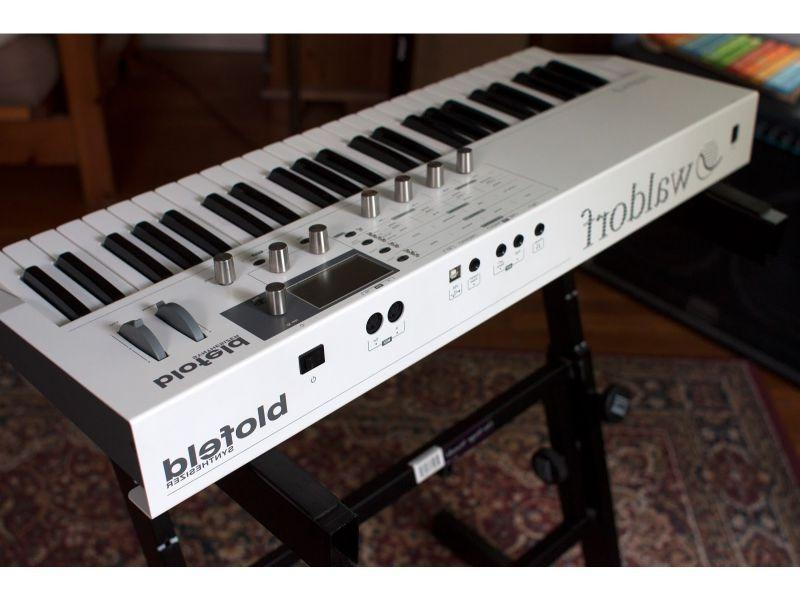synthesizer: (28, 77, 781, 533)
